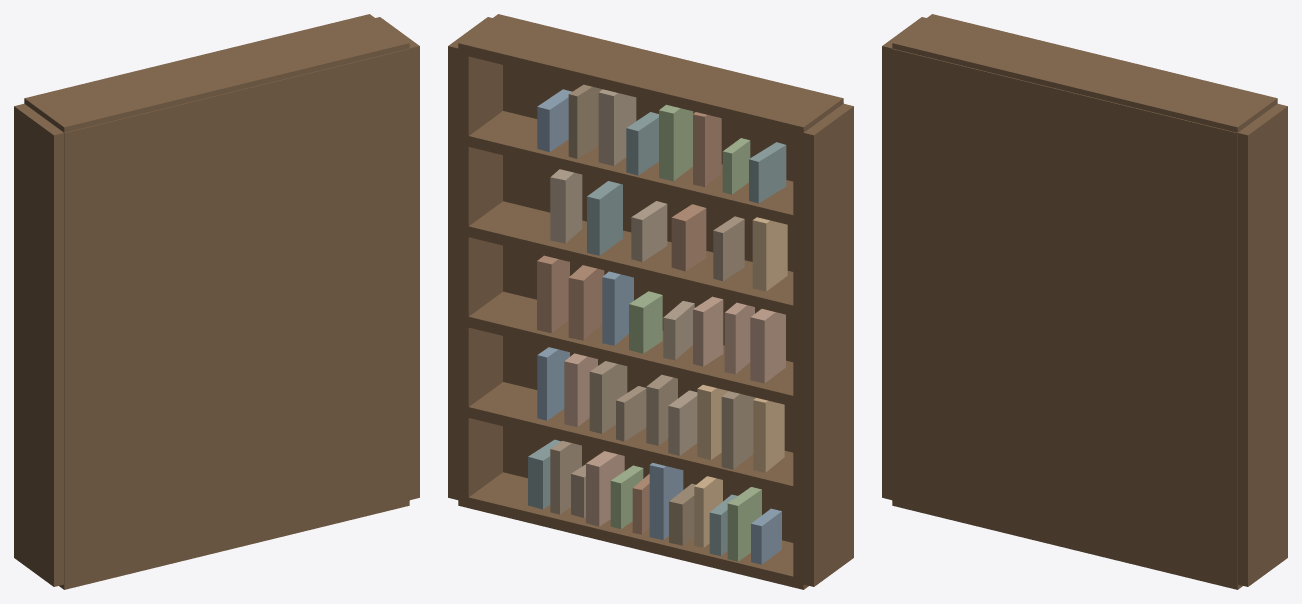
3 renders of one model, left to right at view 1: azimuth 30°, elevation 25°; view 2: azimuth 150°, elevation 25°; view 3: azimuth 330°, elevation 25°, orthographic.
Visible parts, largest first — view 1: Cube.002, Cube, Cube.008, Cube.001, Cube.003; view 2: Cube, Cube.001, Cube.002, Cube.008, Cube.006, Cube.005, Cube.007, Cube.004, Cube.003, Book.021, Book.029, Book.040 (+40 smaller); view 3: Cube.002, Cube.001, Cube.008, Cube, Cube.003.
Part boxes in pixels (<box>): Cube.002: <box>64,48,409,584</box>; Cube: <box>14,103,64,586</box>; Cube.008: <box>24,14,409,132</box>; Cube.001: <box>375,17,419,499</box>; Cube.003: <box>59,501,409,589</box>; Cube: <box>793,103,853,586</box>; Cube.001: <box>448,17,502,502</box>; Cube.002: <box>503,65,793,542</box>; Cube.008: <box>458,14,843,137</box>; Cube.006: <box>458,201,803,318</box>; Cube.005: <box>458,291,803,408</box>; Cube.007: <box>458,111,803,228</box>; Cube.004: <box>458,382,803,499</box>; Cube.003: <box>458,472,808,589</box>; Book.021: <box>750,309,785,383</box>; Book.029: <box>752,217,787,291</box>; Book.040: <box>598,89,636,165</box>; Cube.002: <box>892,48,1237,584</box>; Cube.001: <box>1237,103,1287,586</box>; Cube.008: <box>892,14,1277,132</box>; Cube: <box>882,17,926,499</box>; Cube.003: <box>892,501,1242,589</box>.
Bounding box in the file's own units: 2.12 × 2.56 × 0.405.
